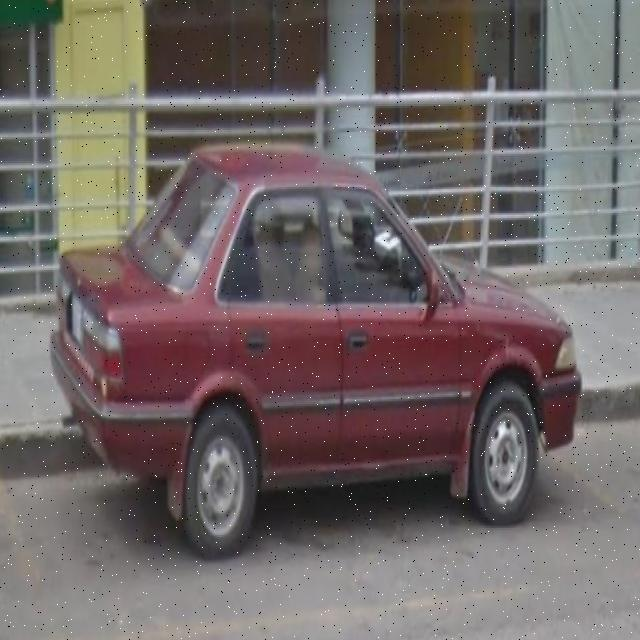car: (52, 155, 580, 559)
